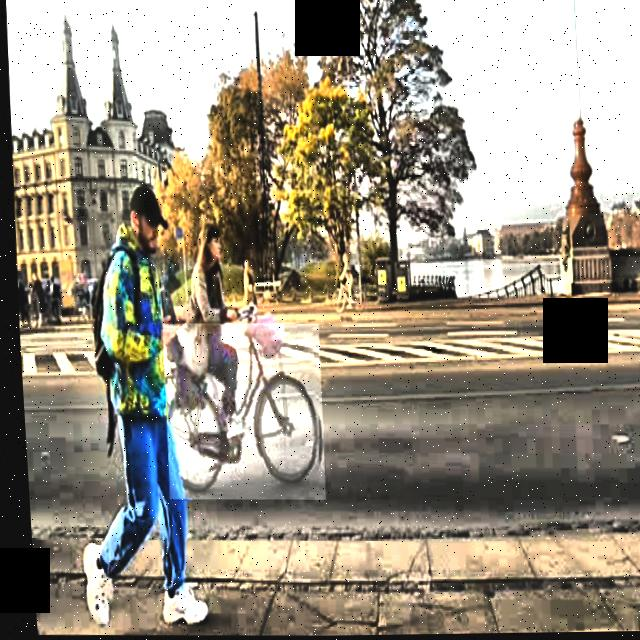bicycle: (155, 322, 322, 502)
